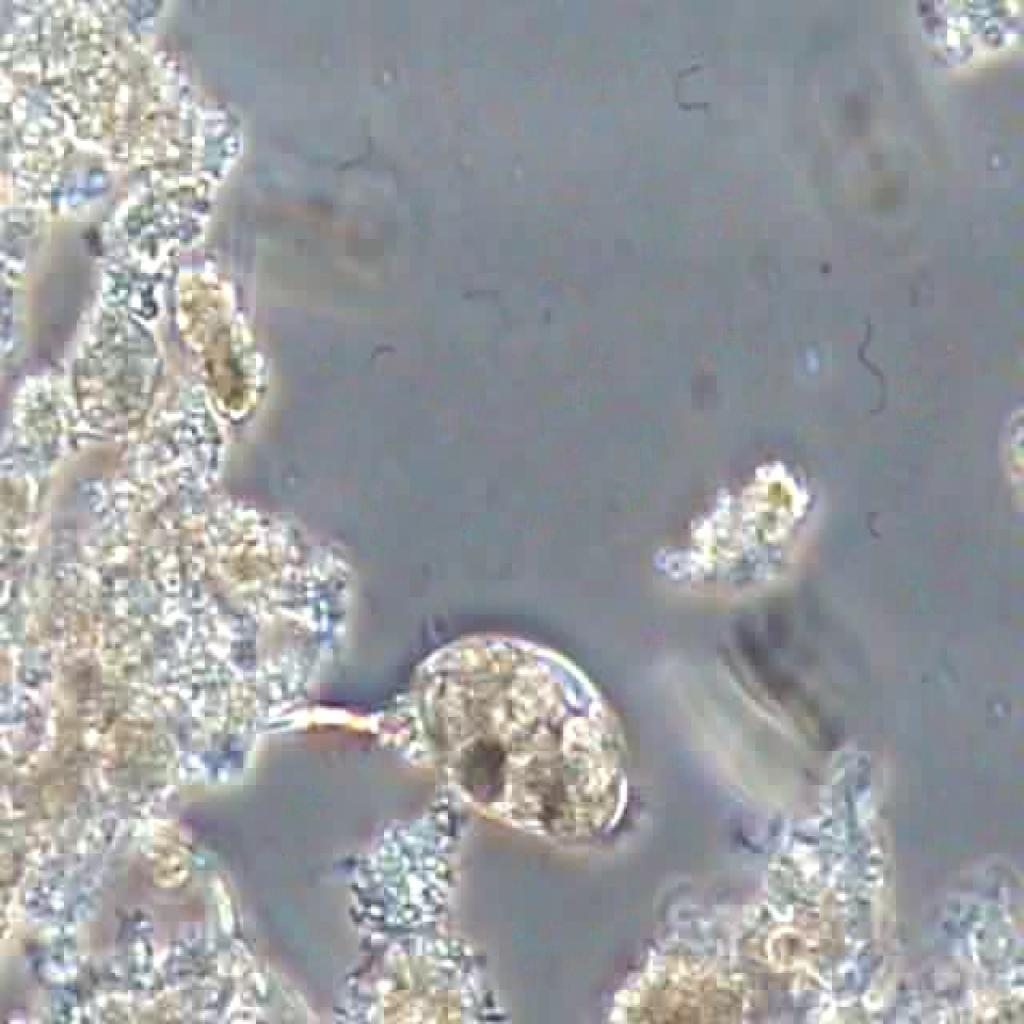Rotatoria: (311, 635, 644, 852)
